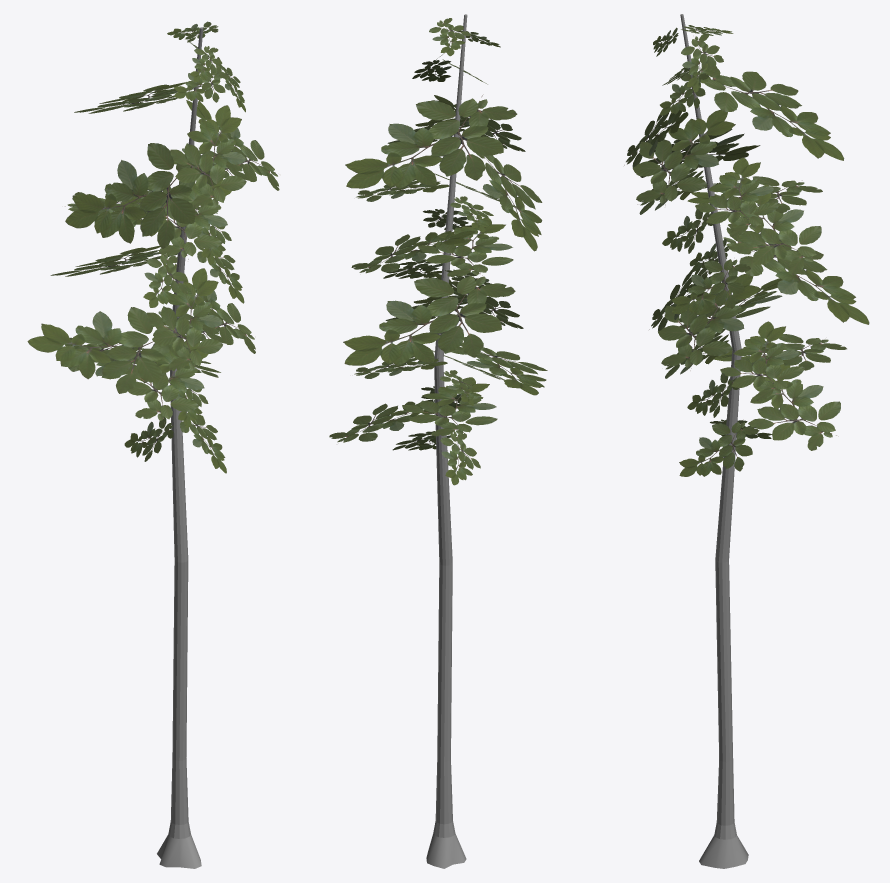
The model's file is tree_2_2.FBX.
The picture shows the model from 3 angles, left to right: view 1: azimuth 30°, elevation 25°; view 2: azimuth 150°, elevation 25°; view 3: azimuth 270°, elevation 25°; orthographic projection. The views are drawn at different scales.
Visible parts, largest first — view 1: Plane003, Cylinder002; view 2: Plane003, Cylinder002; view 3: Plane003, Cylinder002.
Part boxes in pixels (left/top/right/bottom): Plane003: left=27, top=21, right=279, bottom=473; Cylinder002: left=157, top=27, right=203, bottom=868; Plane003: left=329, top=18, right=547, bottom=485; Cylinder002: left=426, top=14, right=467, bottom=868; Plane003: left=624, top=25, right=869, bottom=476; Cylinder002: left=680, top=14, right=748, bottom=868.
Size of the model in its own units: 254 by 941 by 261.
